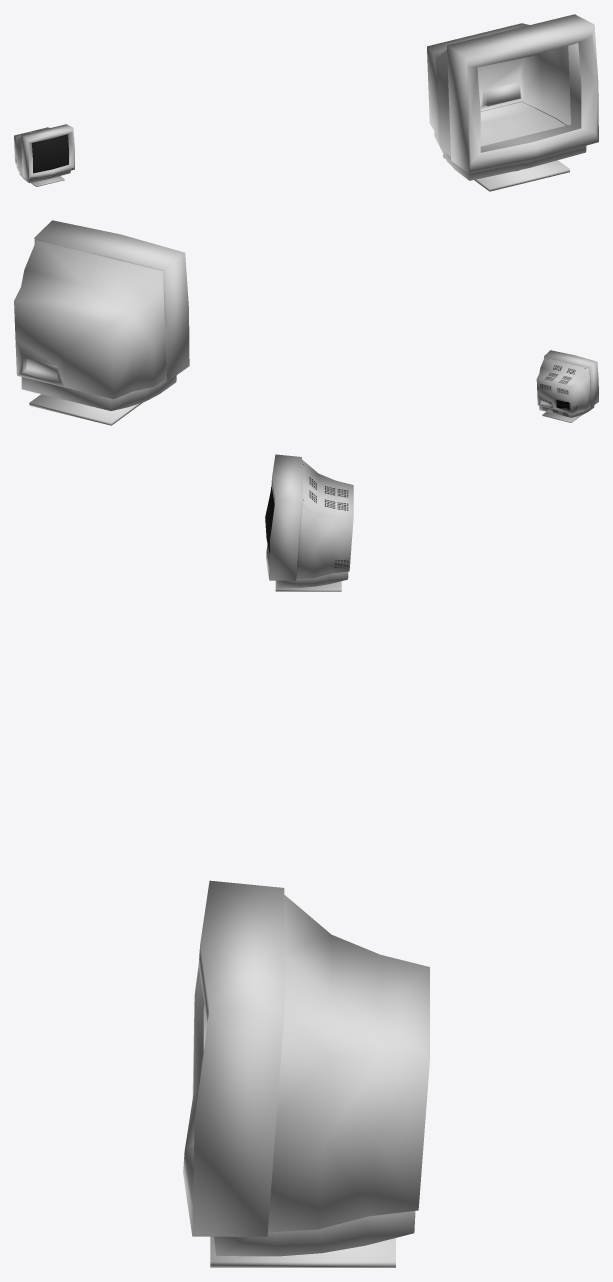
The model's file is monitor_new.glb.
3 views of the same model, one above another, from view 1: azimuth 30°, elevation 25°; view 2: azimuth 150°, elevation 25°; view 3: azimuth 270°, elevation 25° (orthographic). The views are drawn at different scales.
Parts seen in each view (by area): view 1: monitor_base, monitor_backup; view 2: monitor_base, monitor_backup; view 3: monitor_base, monitor_backup.
Boxes of the visible parts, x1=… form: monitor_base: x1=427, y1=14, x2=598, y2=191; monitor_backup: x1=14, y1=124, x2=74, y2=186; monitor_base: x1=14, y1=220, x2=189, y2=425; monitor_backup: x1=536, y1=350, x2=598, y2=422; monitor_base: x1=183, y1=880, x2=429, y2=1267; monitor_backup: x1=265, y1=454, x2=353, y2=591.
Bounding box in the file's own units: 7.24 × 1.88 × 1.4.
Materials: 2 (1 with a texture image).
